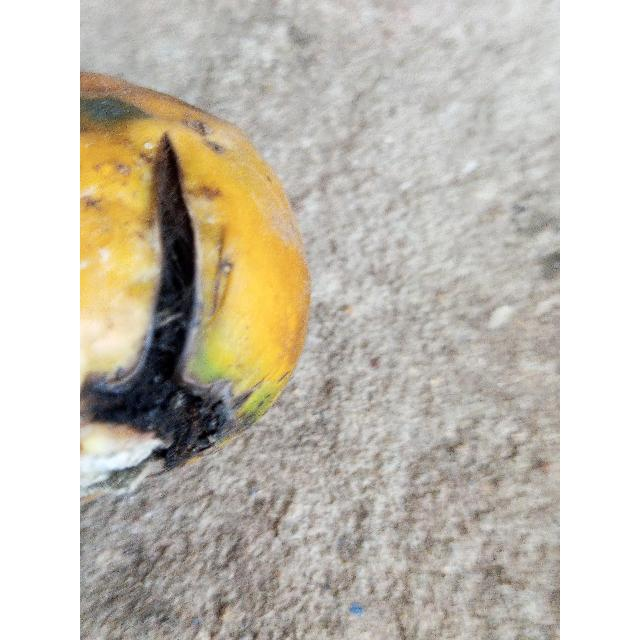damaged: (80, 70, 312, 490)
